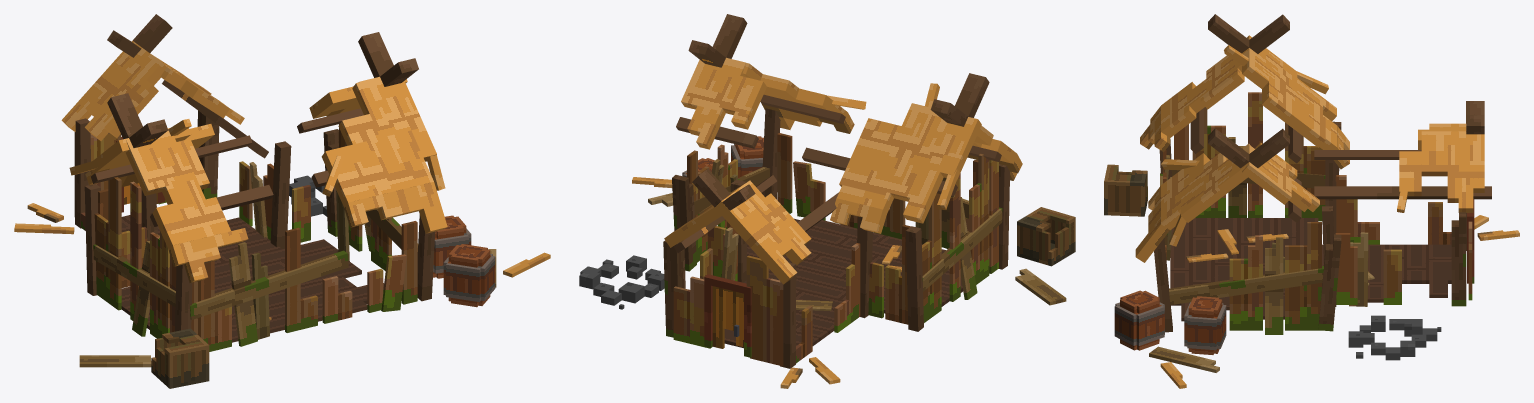
The model's file is building_6x4_grasshuts03.gltf.
3 renders of one model, left to right at view 1: azimuth 30°, elevation 25°; view 2: azimuth 150°, elevation 25°; view 3: azimuth 270°, elevation 25°, orthographic. The views are drawn at different scales.
Visible parts, largest first — view 1: Base-Local, RoofBoard02-Local, RoofBoard01-Local, RoofBoard01$$(1)-Local, r3-Local, w7-Local, TreasureChest-Local, dq-Local, RoofBoard02$$(1)-Local, q3-Local, base02-Local, w8-Local (+19 smaller); view 2: Base-Local, RoofBoard01-Local, base02-Local, RoofBoard01$$(1)-Local, RoofBoard02-Local, door-Local, TreasureChest-Local, F-Local, RoofBoard02$$(1)-Local, q6-Local, w2-Local, q1-Local (+15 smaller); view 3: Base-Local, RoofBoard01-Local, RoofBoard02-Local, RoofBoard02$$(1)-Local, base02-Local, dq-Local, w5-Local, F-Local, dq2-Local, TreasureChest-Local, r3-Local, RoofBoard01$$(1)-Local (+11 smaller).
Part boxes in pixels (bbox=[...]): Base-Local: bbox=[94, 124, 417, 351]; RoofBoard02-Local: bbox=[107, 32, 436, 250]; RoofBoard01-Local: bbox=[85, 58, 418, 185]; RoofBoard01$$(1)-Local: bbox=[61, 14, 172, 140]; r3-Local: bbox=[169, 182, 447, 282]; w7-Local: bbox=[190, 250, 348, 319]; TreasureChest-Local: bbox=[151, 328, 209, 388]; dq-Local: bbox=[443, 244, 495, 307]; RoofBoard02$$(1)-Local: bbox=[107, 30, 268, 158]; q3-Local: bbox=[270, 141, 291, 249]; base02-Local: bbox=[81, 133, 273, 240]; w8-Local: bbox=[229, 242, 257, 346]; Base-Local: bbox=[687, 133, 998, 348]; RoofBoard01-Local: bbox=[676, 14, 989, 223]; base02-Local: bbox=[673, 221, 860, 366]; RoofBoard01$$(1)-Local: bbox=[692, 169, 838, 284]; RoofBoard02-Local: bbox=[688, 40, 1016, 163]; door-Local: bbox=[704, 274, 751, 357]; TreasureChest-Local: bbox=[1017, 207, 1075, 266]; F-Local: bbox=[579, 255, 664, 309]; RoofBoard02$$(1)-Local: bbox=[664, 175, 776, 252]; q6-Local: bbox=[905, 226, 923, 331]; w2-Local: bbox=[922, 207, 1002, 291]; q1-Local: bbox=[672, 175, 696, 271]; Base-Local: bbox=[1163, 92, 1451, 330]; RoofBoard01-Local: bbox=[1208, 14, 1336, 222]; RoofBoard02-Local: bbox=[1161, 14, 1289, 230]; RoofBoard02$$(1)-Local: bbox=[1314, 101, 1491, 212]; base02-Local: bbox=[1335, 175, 1472, 304]; dq-Local: bbox=[1114, 290, 1164, 350]; w5-Local: bbox=[1169, 266, 1323, 304]; F-Local: bbox=[1348, 315, 1441, 360]; dq2-Local: bbox=[1184, 296, 1226, 354]; TreasureChest-Local: bbox=[1104, 164, 1147, 216]; r3-Local: bbox=[1135, 106, 1170, 262]; RoofBoard01$$(1)-Local: bbox=[1314, 115, 1484, 159].
Bounding box in the file's own units: 134 × 61.1 × 112.
45 materials, 45 textured.
